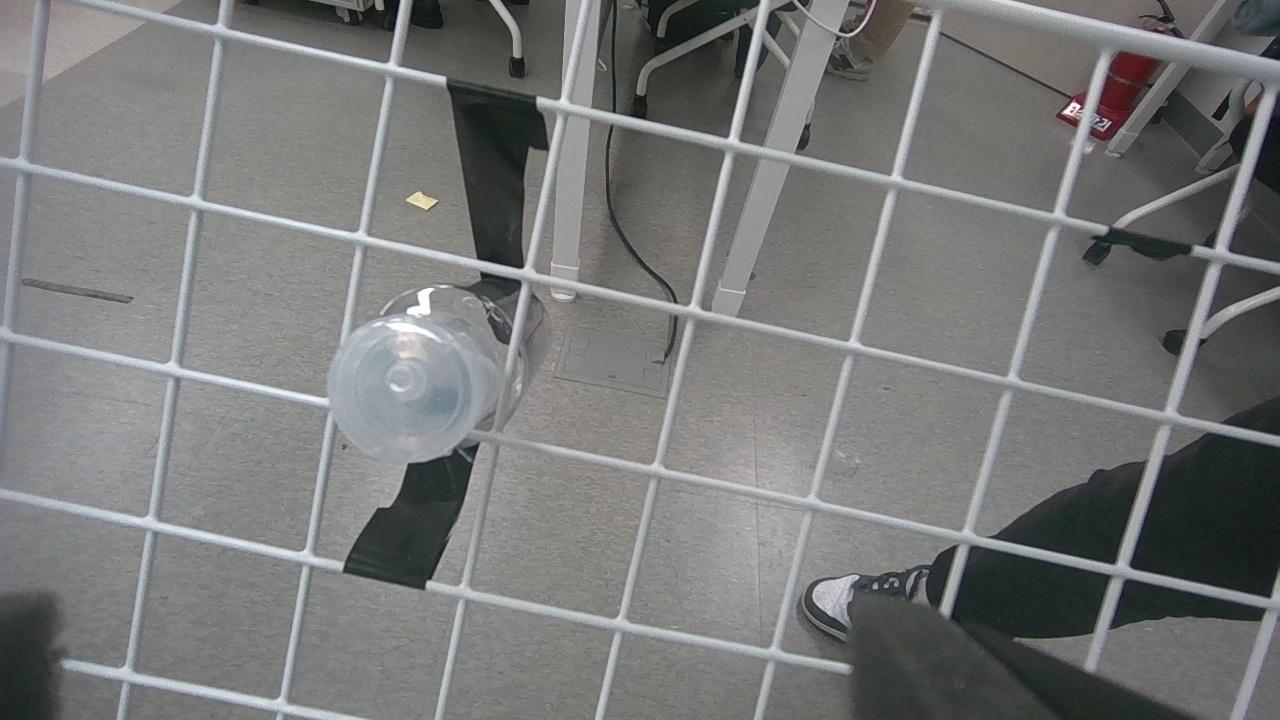Cap: (329, 321, 482, 466)
